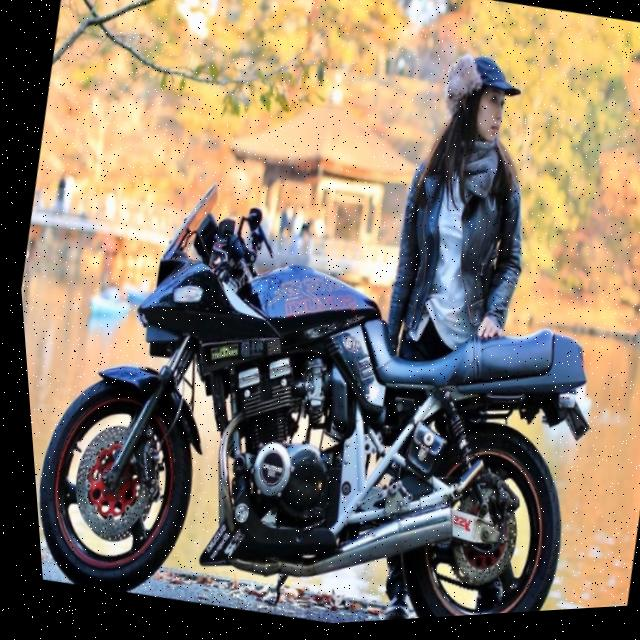illegal_helmet: (427, 49, 532, 162)
